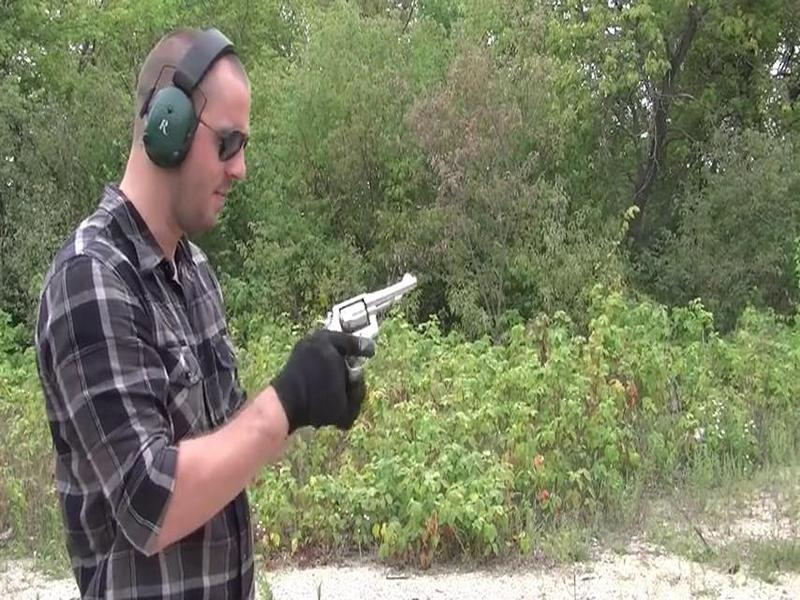Revolver: (309, 265, 421, 378)
